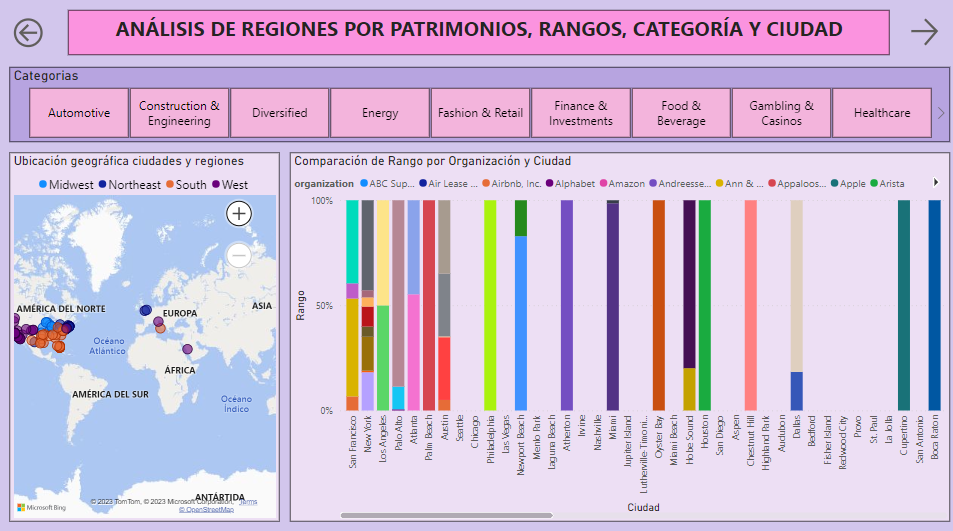

What the dashboard file says about the page in this screenshot:
{"tool":"powerbi","page":{"name":"Análisis","canvas":[1280,720],"ordinal":1},"visuals":[{"type":"hundredPercentStackedColumnChart","title":"Comparación de Rango por Organización y Ciudad","fields":{"Category":["datos_limpios.city"],"Y":["Sum(datos_limpios.rank)"],"Series":["datos_limpios.organization"]},"box":[314.7,209.8,956.8,492.7],"z":0},{"type":"slicer","fields":{"Values":["datos_limpios.Región de residencia"]},"box":[8.1,100.3,1263.6,97.1],"z":1000},{"type":"textbox","box":[92,20,1094,60],"z":2000},{"type":"actionButton","box":[18,20,50,60],"z":3000},{"type":"slicer","fields":{"Values":["datos_limpios.category"]},"box":[7.9,209.8,279.7,492.7],"z":4000}]}

Visuals, with their boxes in screenshot pixels (x1, y1, x2, y2), scaled from the page's 1280x720 canvas onto the 953x531 screenshot:
"Comparación de Rango por Organización y Ciudad" hundredPercentStackedColumnChart: rect(234, 155, 947, 518)
slicer - datos_limpios.Región de residencia: rect(6, 74, 947, 146)
textbox: rect(68, 15, 883, 59)
actionButton: rect(13, 15, 51, 59)
slicer - datos_limpios.category: rect(6, 155, 214, 518)
